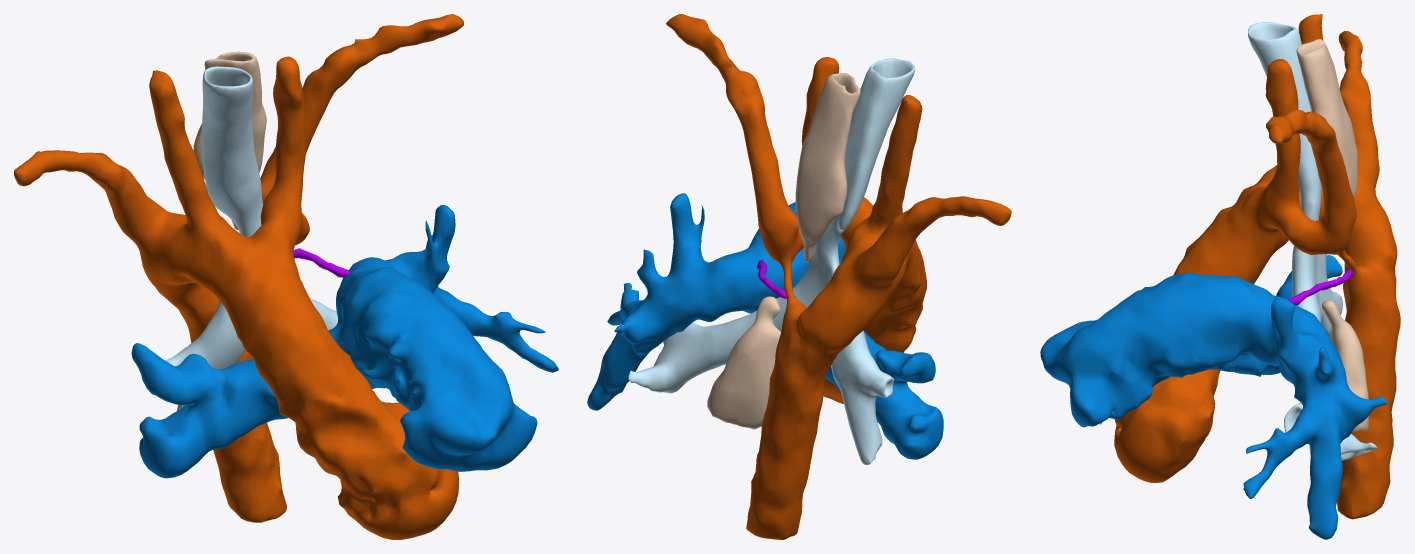
File: DAA with atresia.gltf
3 renders of one model, left to right at view 1: azimuth 30°, elevation 25°; view 2: azimuth 150°, elevation 25°; view 3: azimuth 270°, elevation 25°, orthographic. The views are drawn at different scales.
Visible parts, largest first — view 1: aorta, pa, trachea, esophagus; view 2: aorta, pa, trachea, esophagus; view 3: aorta, pa, trachea, esophagus, ligamentum arteriosum.
Boxes of the visible parts, x1,y1,x2,y2 form: aorta: [14, 14, 463, 539]; pa: [131, 205, 558, 478]; trachea: [165, 66, 337, 410]; esophagus: [193, 51, 303, 285]; aorta: [666, 14, 1011, 539]; pa: [587, 193, 943, 459]; trachea: [628, 58, 915, 465]; esophagus: [707, 73, 860, 429]; aorta: [1114, 14, 1400, 519]; pa: [1040, 255, 1387, 539]; trachea: [1248, 22, 1377, 460]; esophagus: [1296, 39, 1368, 431]; ligamentum arteriosum: [1288, 269, 1354, 305].
Bounding box in the file's own units: 65.09 × 63.11 × 45.83.
